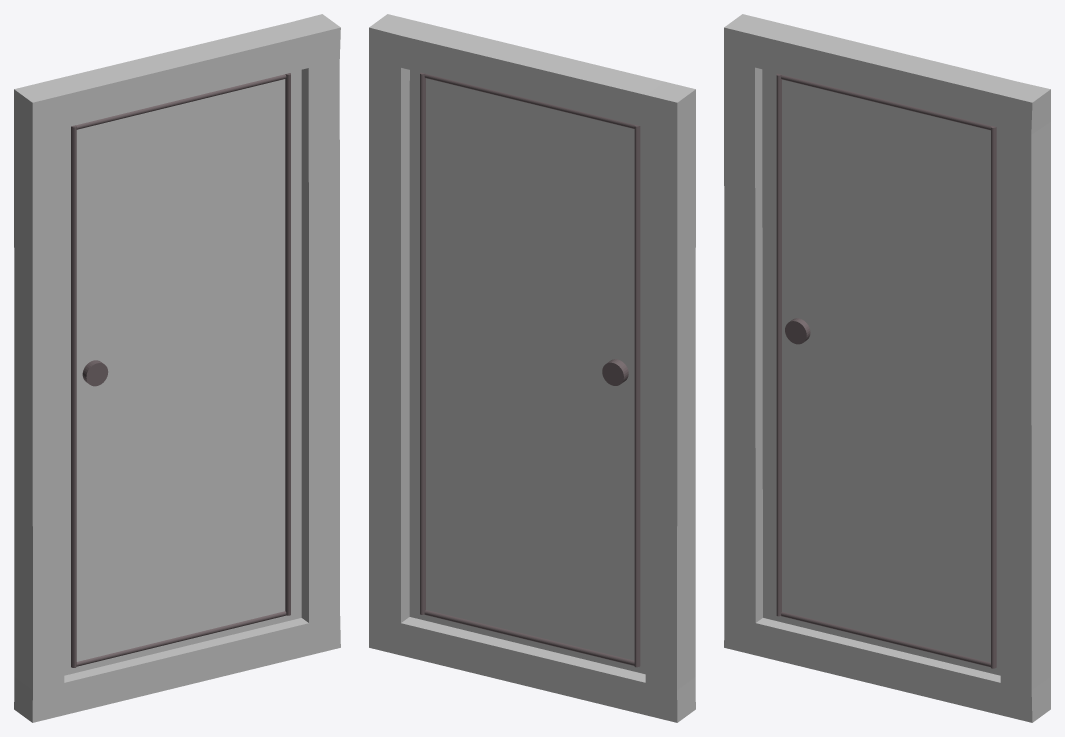
The model's file is doa.fbx.
3 views of the same model, side by side, from view 1: azimuth 30°, elevation 25°; view 2: azimuth 150°, elevation 25°; view 3: azimuth 330°, elevation 25° (orthographic).
Parts seen in each view (by area): view 1: Cylinder.002; view 2: Cylinder.002; view 3: Cylinder.002.
Boxes of the visible parts, box(x1,y1,x2,y2) form: Cylinder.002: box(14, 14, 340, 722); Cylinder.002: box(369, 14, 695, 722); Cylinder.002: box(724, 14, 1050, 722).
Size of the model in its own units: 708 by 1360 by 73.47.
